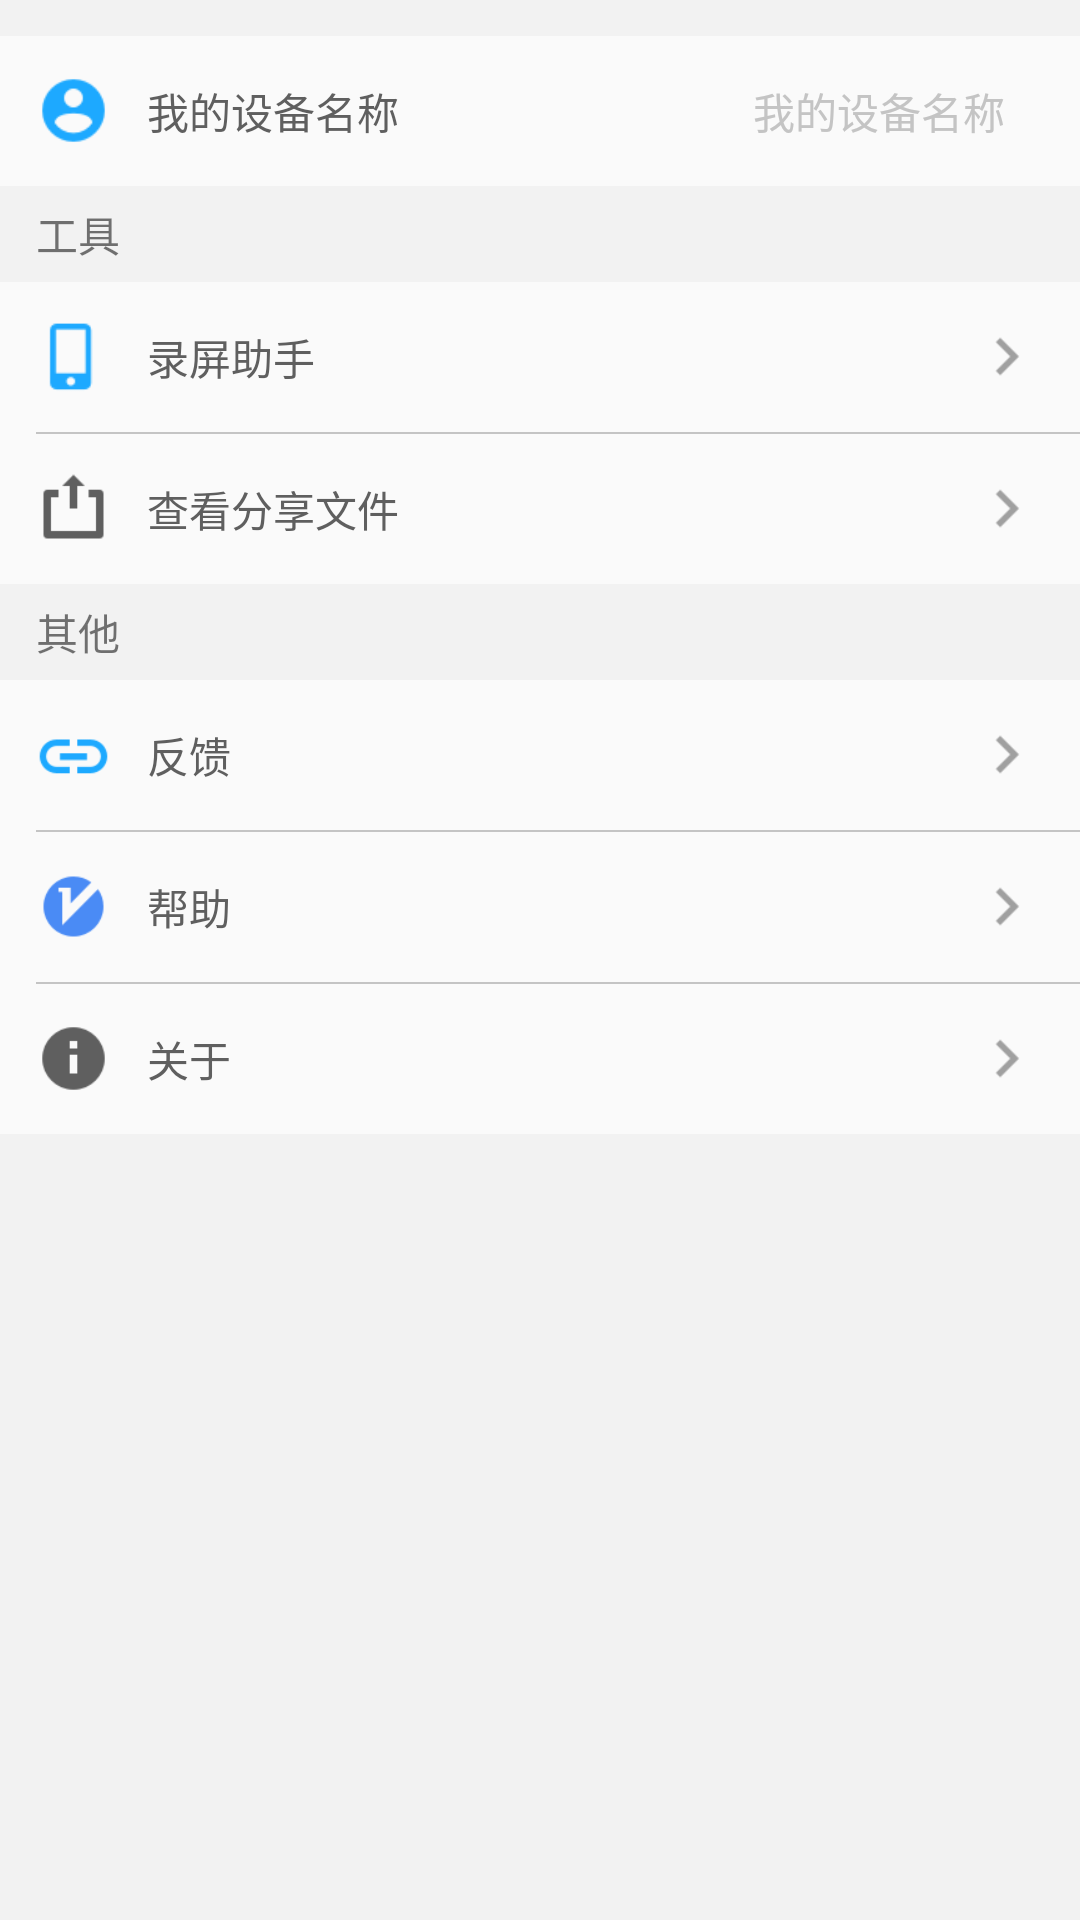

Locate icon controls on the screen. Image size 1080px×1920px, boxes as (x1, y1, x2, y2).
file share: (43, 475, 104, 539)
itemarrow: (996, 338, 1019, 375), (996, 490, 1019, 527), (996, 736, 1019, 773), (996, 888, 1019, 925), (996, 1040, 1019, 1077)
phone: (49, 323, 92, 390)
settings about: (42, 1027, 105, 1090)
settings name: (42, 79, 105, 142)
